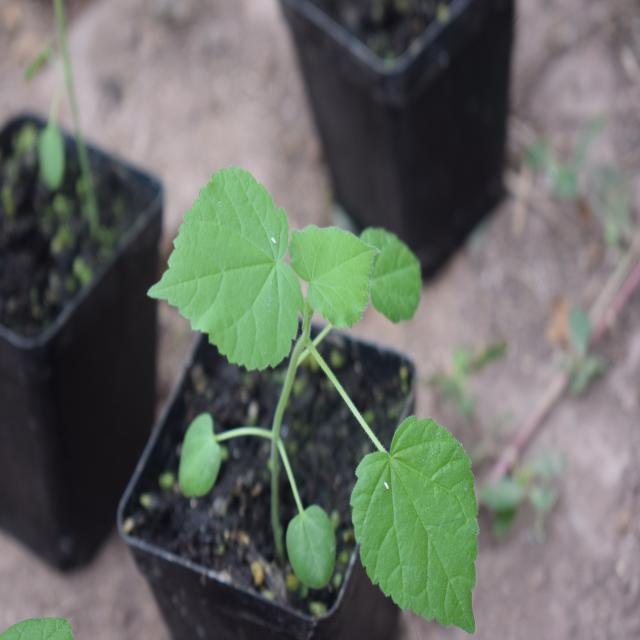abutilon theophrasti: (140, 167, 495, 618)
